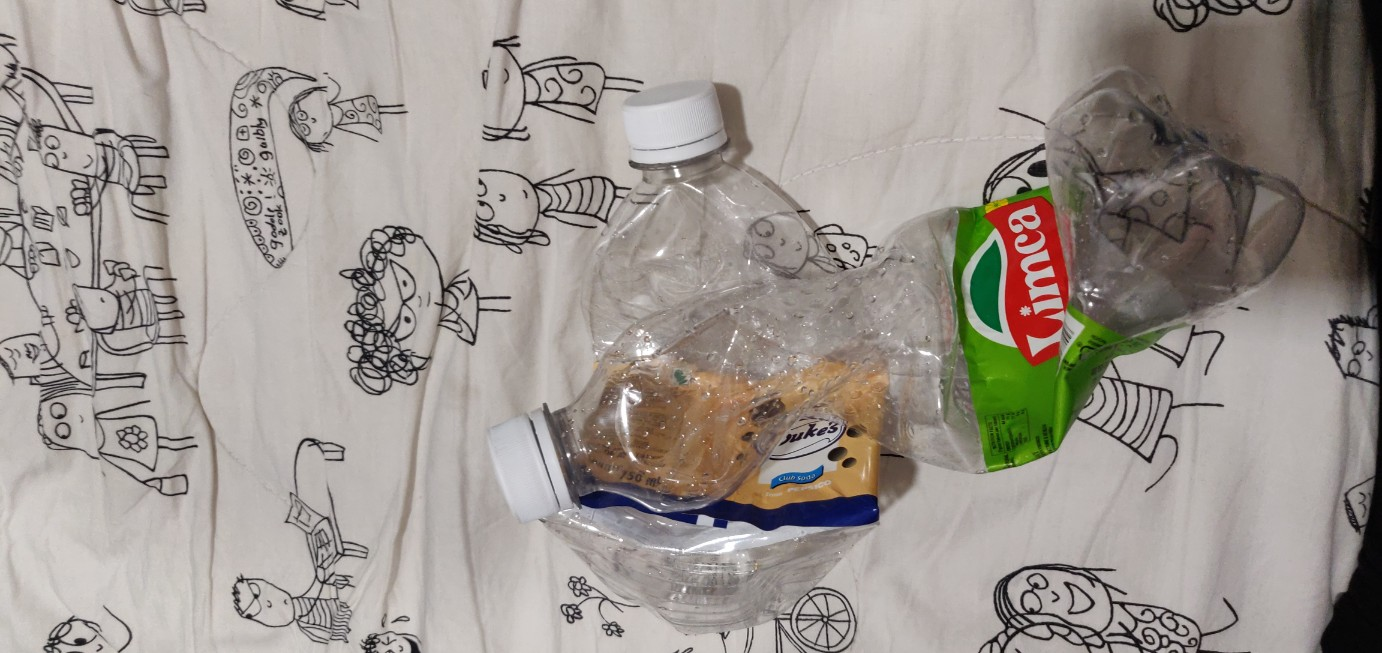Electronics: (459, 63, 1382, 595), (556, 67, 995, 569)
